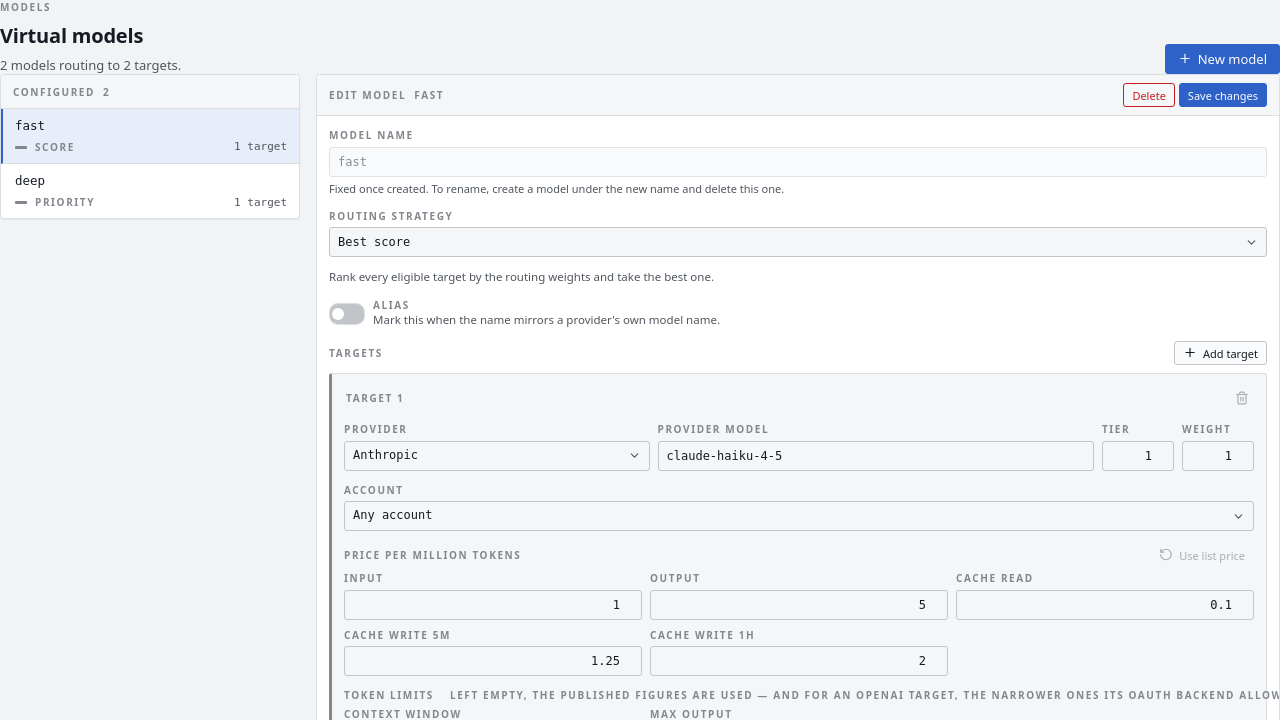
Test: ModelsBoard › saving PUTs the whole model to its own id
The image size is (1280, 720).
Check: the text "Edit model" is shown, box [329,88,406,103]
Click the button "Save changes".
click(1223, 95)  # box [1179,83,1267,107]
(page scrolled)
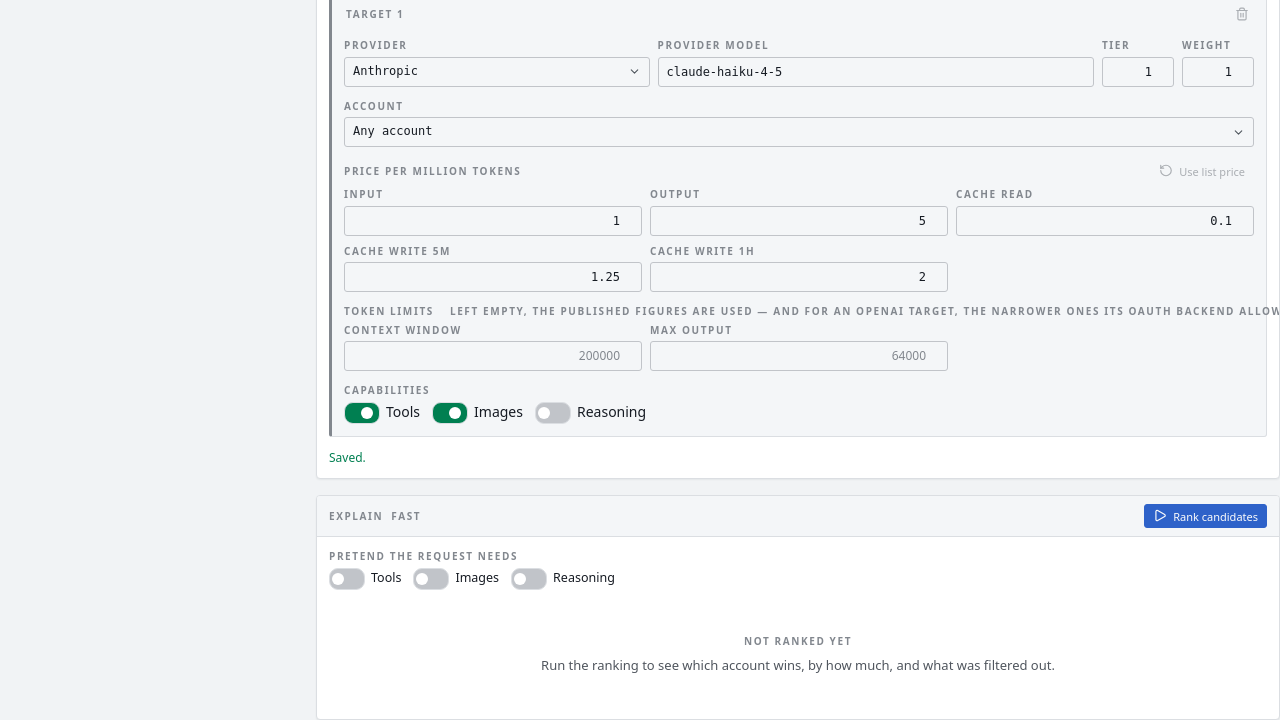
Check: the text "Saved." is shown, box [329,449,366,466]
